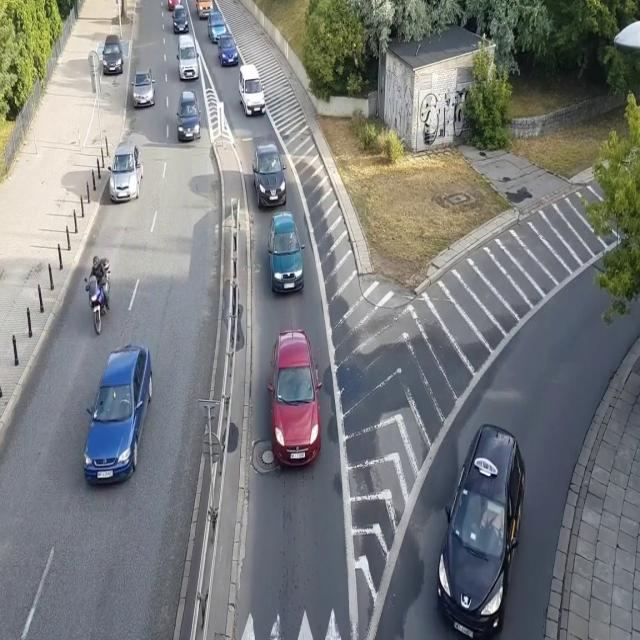car: (435, 422, 527, 639), (81, 343, 153, 487), (264, 328, 324, 468), (268, 211, 306, 298), (252, 141, 288, 210), (108, 137, 145, 200), (176, 87, 201, 141), (132, 63, 155, 107), (102, 31, 124, 73), (218, 33, 239, 67), (207, 10, 228, 41), (170, 4, 190, 33), (166, 0, 182, 11)
motorcycle: (84, 254, 112, 339)
truck: (195, 0, 214, 19)
van: (239, 64, 266, 116), (177, 34, 200, 80)
